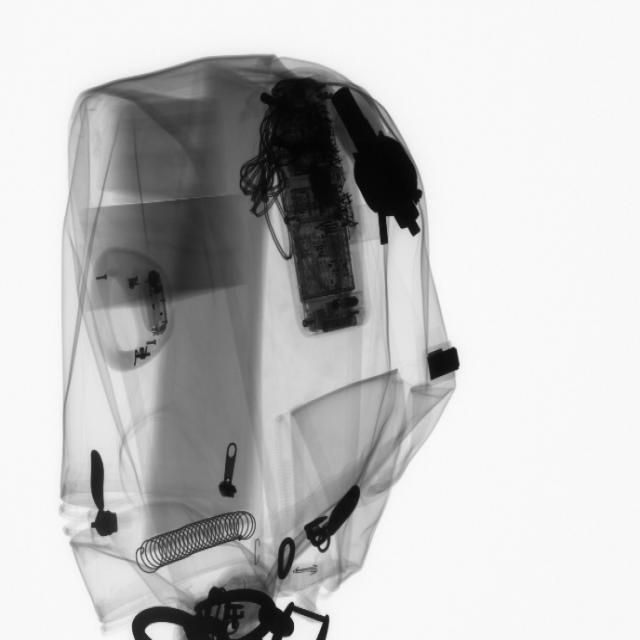GUN: (338, 84, 428, 250)
